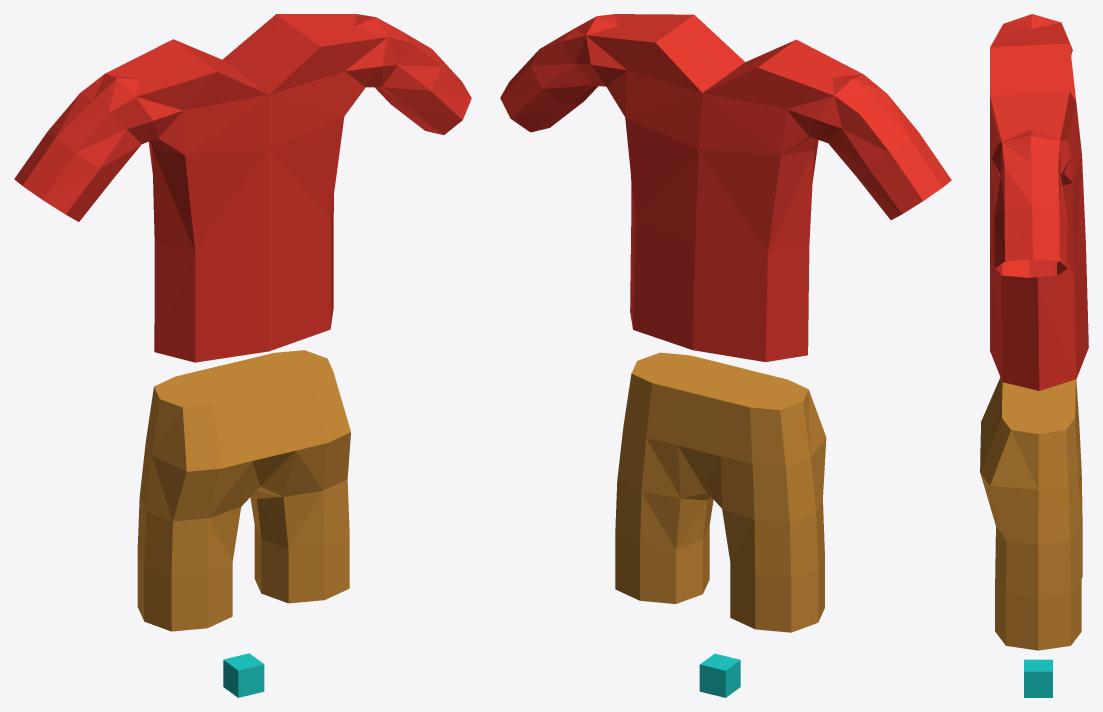
The model's file is outfit_character.dae.
3 views of the same model, side by side, from view 1: azimuth 30°, elevation 25°; view 2: azimuth 150°, elevation 25°; view 3: azimuth 270°, elevation 25° (orthographic). The views are drawn at different scales.
Visible parts, largest first — view 1: Cube_002; view 2: Cube_002; view 3: Cube_002.
Boxes of the visible parts, <box> form: Cube_002: <box>14,14,471,697</box>; Cube_002: <box>500,14,951,697</box>; Cube_002: <box>980,14,1088,697</box>.
Size of the model in its own units: 1.68 by 0.3765 by 2.38.
